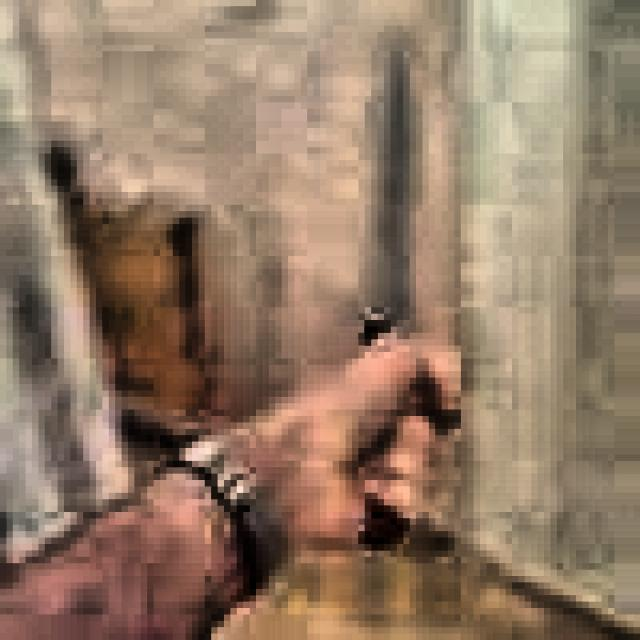knife: (359, 53, 417, 554)
